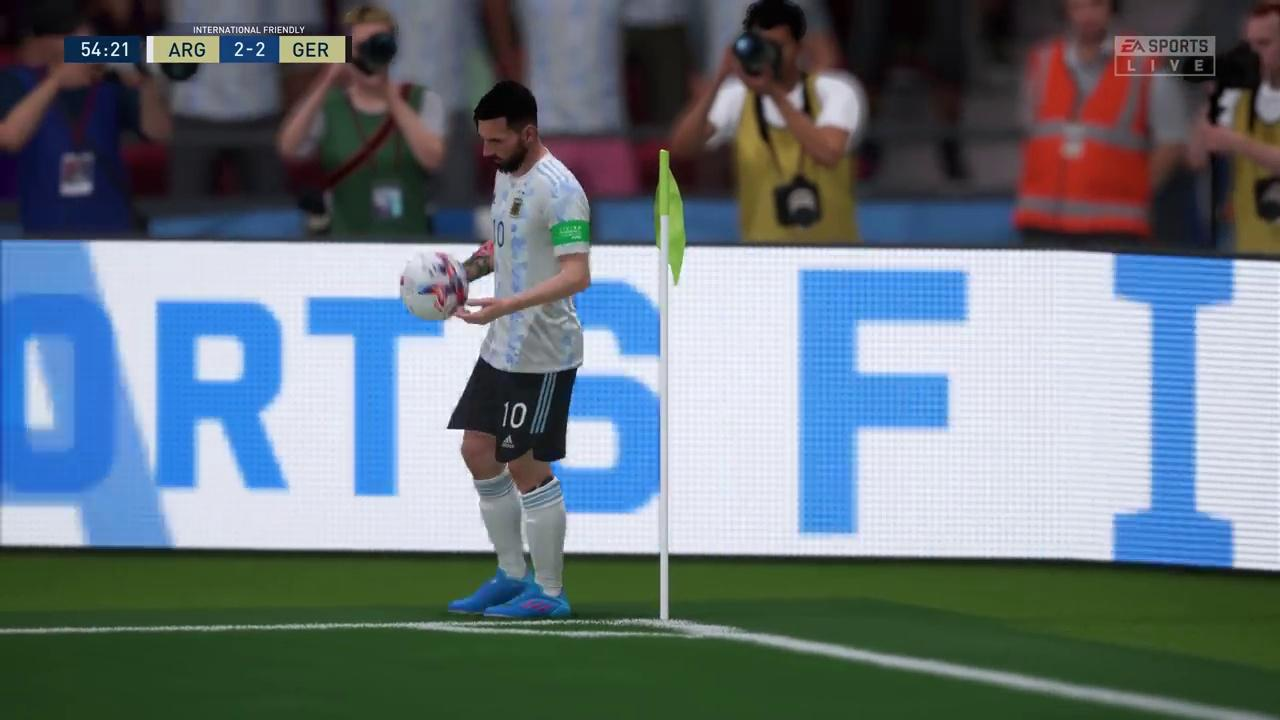scoreboard: (149, 37, 346, 63)
timestamp: (63, 38, 142, 62)
